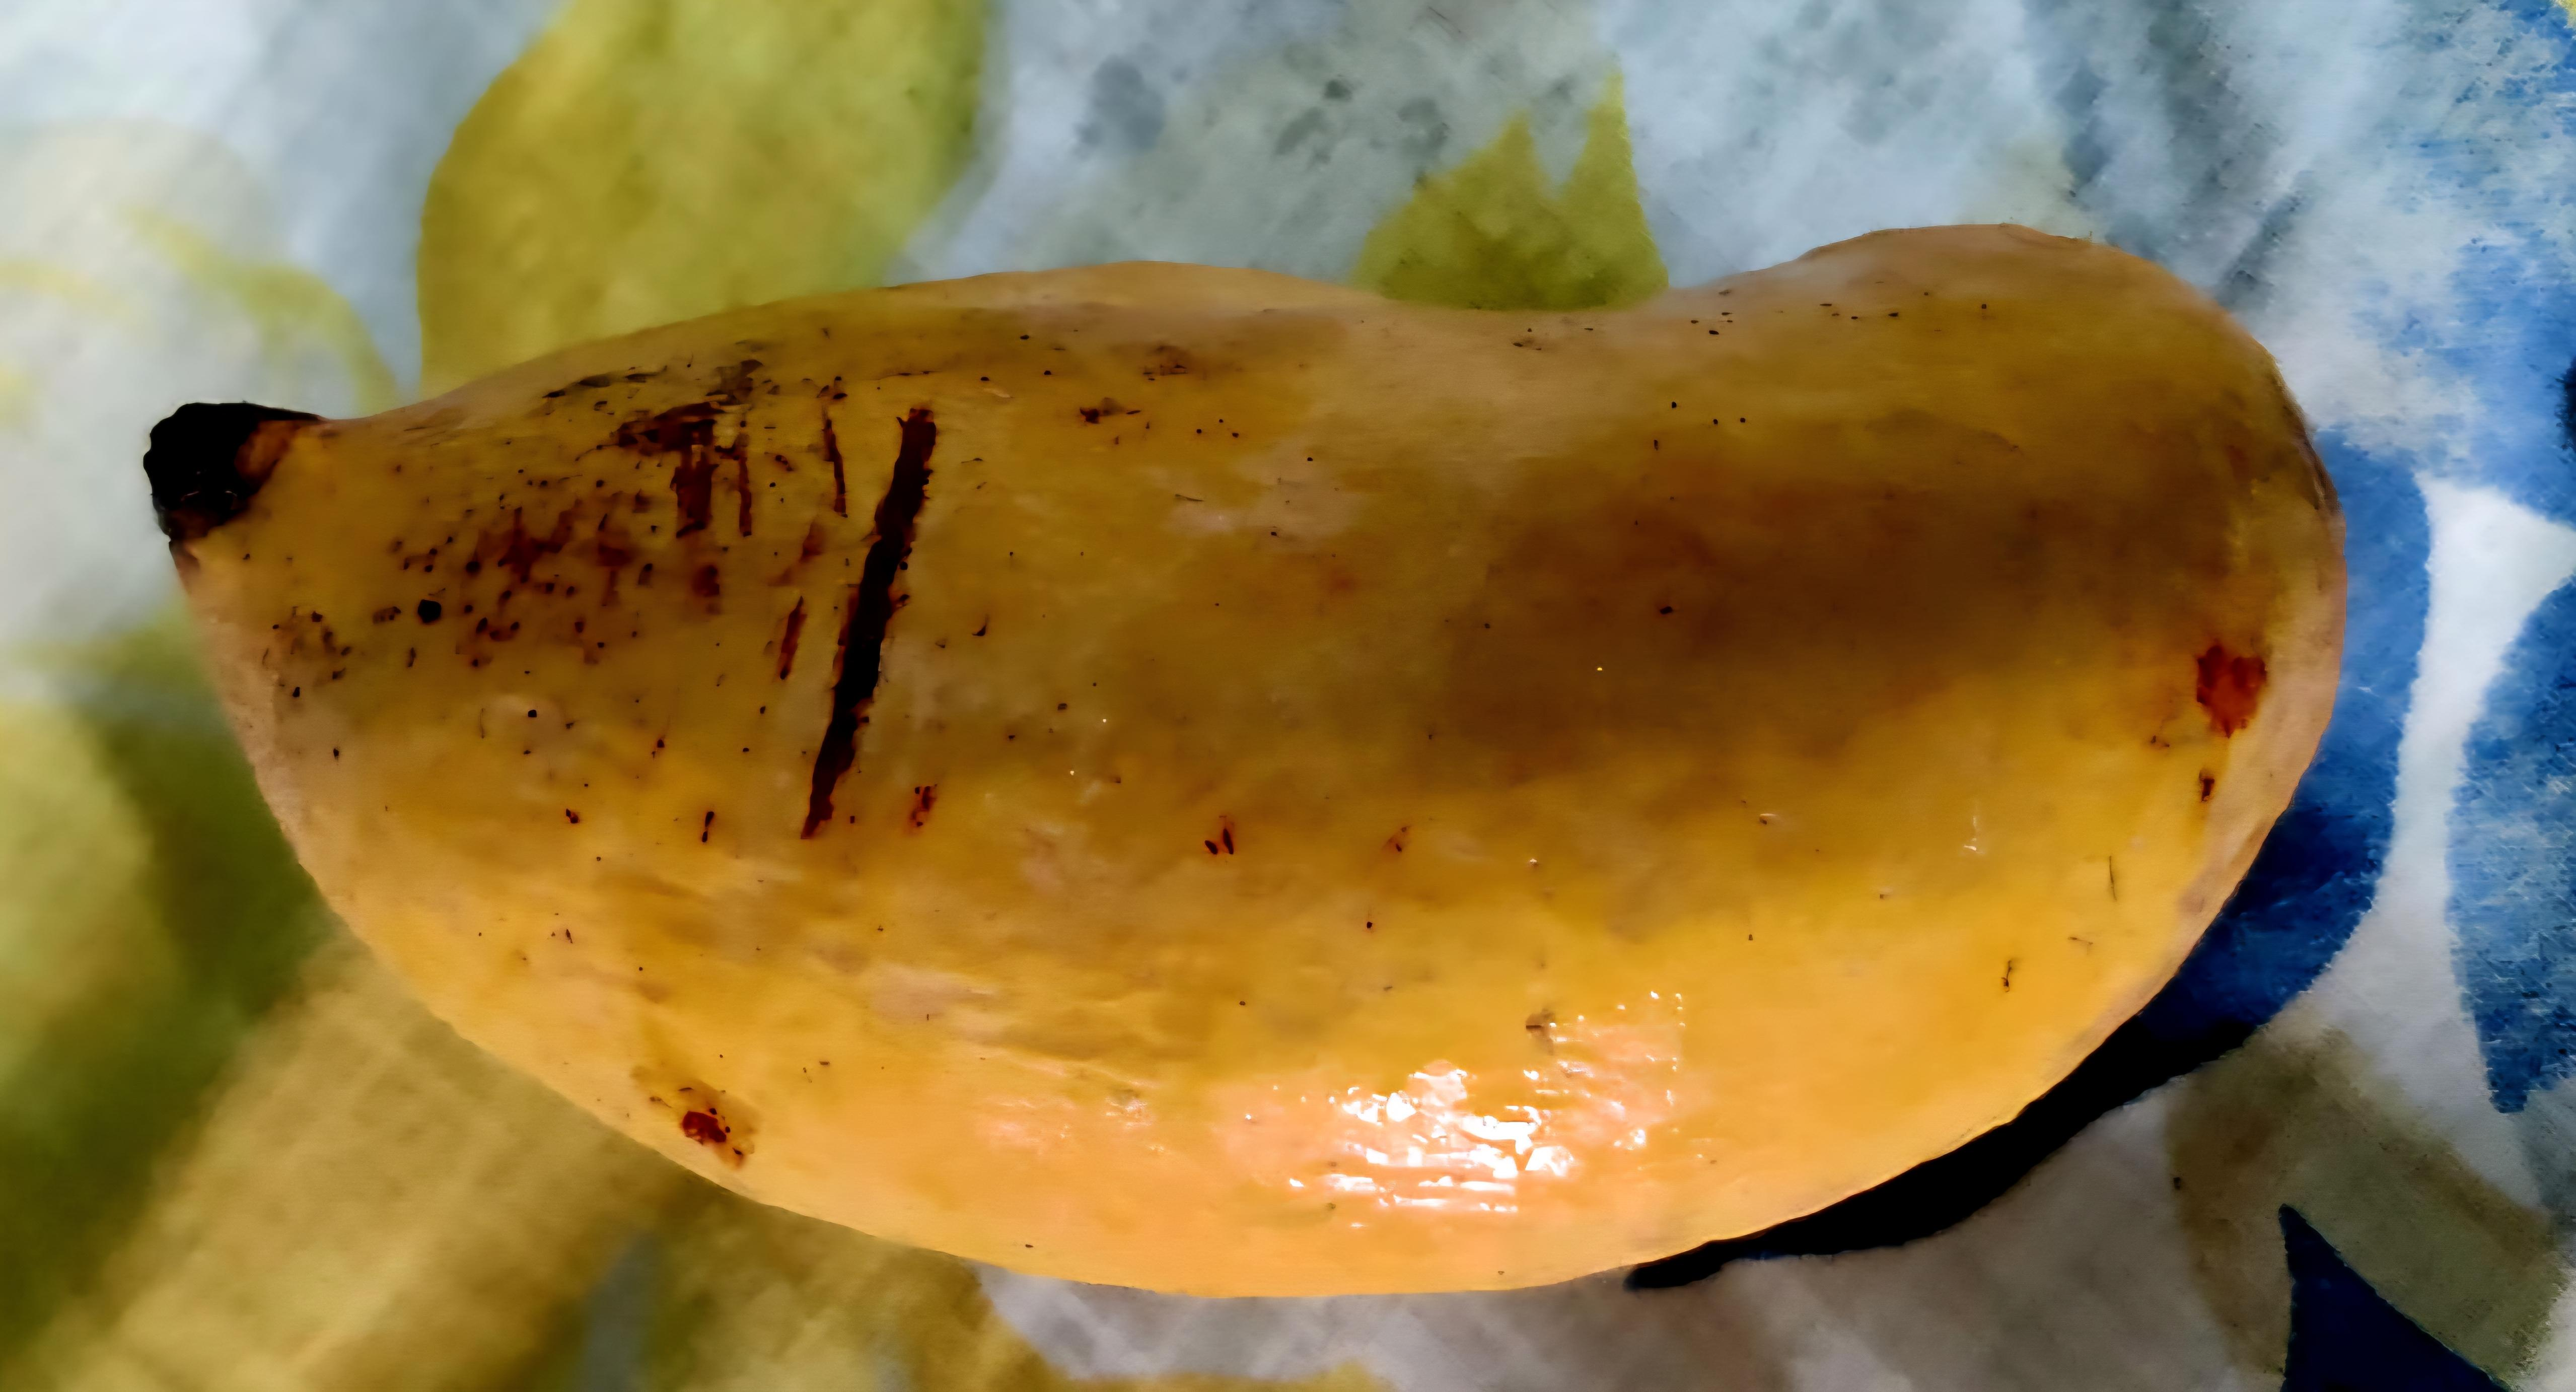mango: (144, 216, 2350, 1299)
